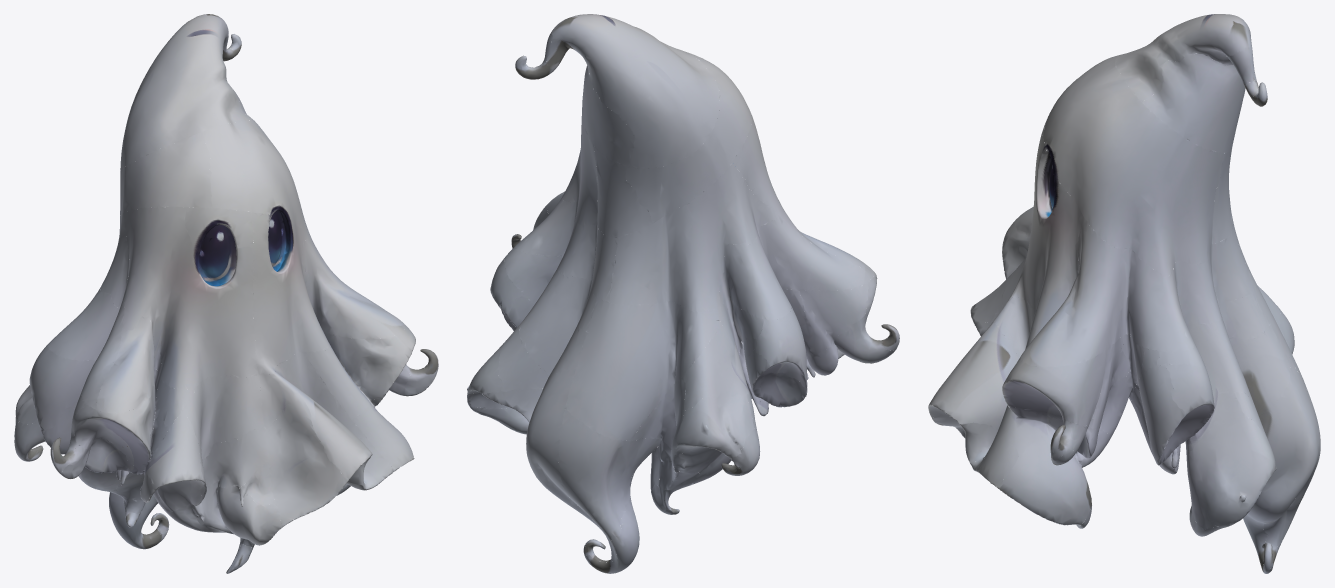
Rendered from ghost.glb.
The picture shows the model from 3 angles, left to right: view 1: azimuth 30°, elevation 25°; view 2: azimuth 150°, elevation 25°; view 3: azimuth 270°, elevation 25°; orthographic projection. The views are drawn at different scales.
Visible parts, largest first — view 1: tripo_node_4ecbcc45-3fc3-417a-87ec-3e3a59537e20; view 2: tripo_node_4ecbcc45-3fc3-417a-87ec-3e3a59537e20; view 3: tripo_node_4ecbcc45-3fc3-417a-87ec-3e3a59537e20.
Boxes of the visible parts, x1,y1,x2,y2 form: tripo_node_4ecbcc45-3fc3-417a-87ec-3e3a59537e20: (14,14,438,573); tripo_node_4ecbcc45-3fc3-417a-87ec-3e3a59537e20: (467,14,899,573); tripo_node_4ecbcc45-3fc3-417a-87ec-3e3a59537e20: (928,14,1320,573).
Bounding box in the file's own units: 0.7587 × 1 × 0.6205.
Materials: 1 (1 with a texture image).
